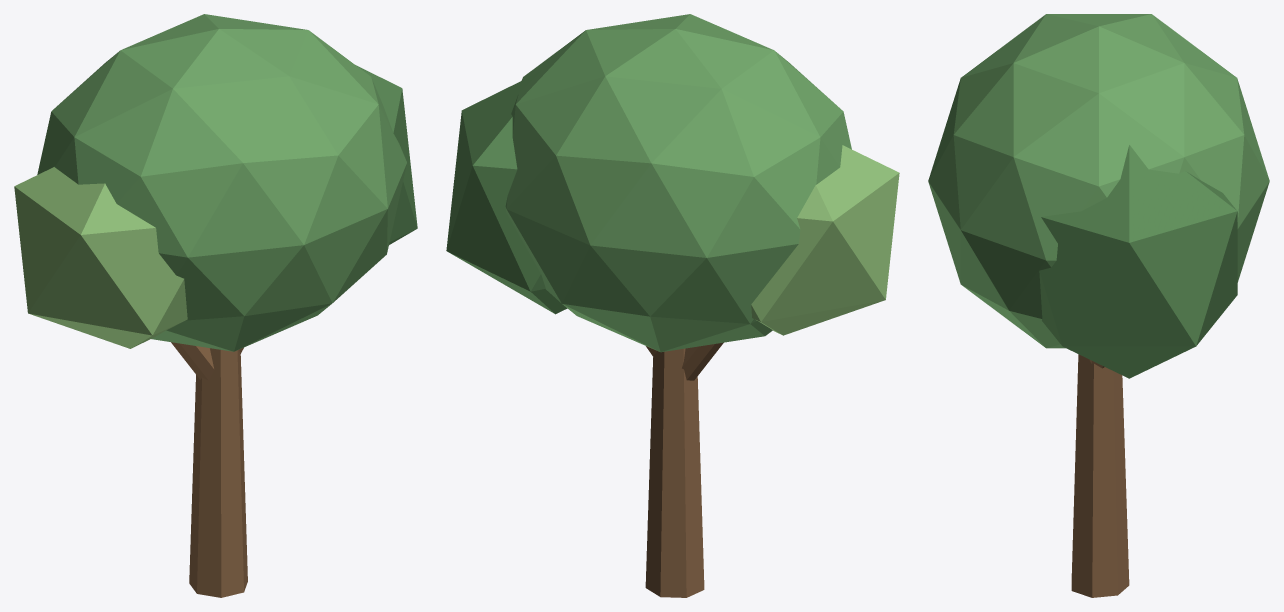
The model's file is tree-broadleaf.glb.
3 views of the same model, side by side, from view 1: azimuth 30°, elevation 25°; view 2: azimuth 150°, elevation 25°; view 3: azimuth 270°, elevation 25° (orthographic).
Visible parts, largest first — view 1: Crown, CrownLight, Trunk.001, CrownDark, Branch; view 2: Crown, CrownLight, Trunk.001, CrownDark, Branch; view 3: Crown, CrownDark, Trunk.001.
Boxes of the visible parts, x1=… form: Crown: x1=37, y1=14, x2=406, y2=351; CrownLight: x1=14, y1=167, x2=187, y2=348; Trunk.001: x1=189, y1=348, x2=247, y2=597; CrownDark: x1=356, y1=65, x2=417, y2=244; Branch: x1=171, y1=342, x2=214, y2=380; Crown: x1=505, y1=14, x2=851, y2=352; CrownLight: x1=751, y1=145, x2=899, y2=335; Trunk.001: x1=645, y1=348, x2=704, y2=597; CrownDark: x1=446, y1=71, x2=567, y2=314; Branch: x1=682, y1=342, x2=723, y2=380; Crown: x1=928, y1=14, x2=1269, y2=348; CrownDark: x1=1039, y1=145, x2=1237, y2=378; Trunk.001: x1=1071, y1=354, x2=1129, y2=597.
Size of the model in its own units: 2.44 by 3.25 by 1.8.
